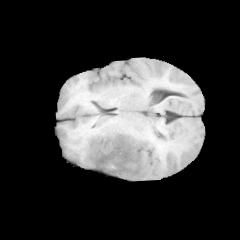glioma: (92, 127, 148, 179)
